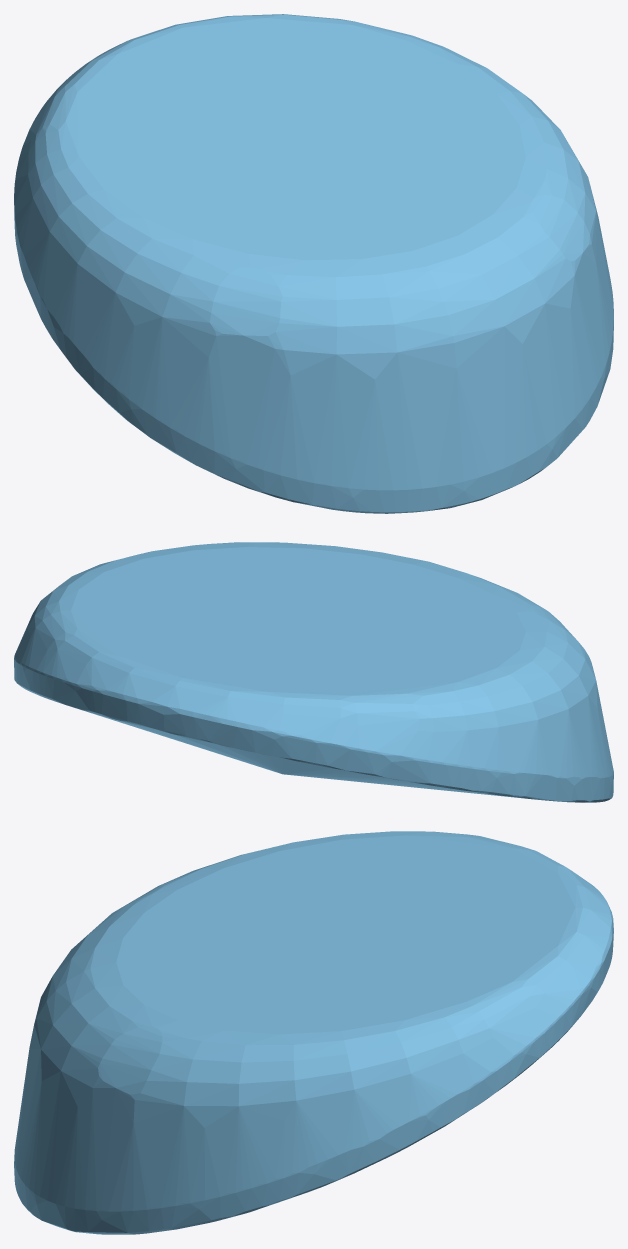
Rendered from ur10_e_link3_visible_vis_5.dae.
The picture shows the model from 3 angles, top to bottom: view 1: azimuth 30°, elevation 25°; view 2: azimuth 150°, elevation 25°; view 3: azimuth 270°, elevation 25°; orthographic projection.
Visible parts, largest first — view 1: node; view 2: node; view 3: node.
Part boxes in pixels (x1,y1,x2,y2): node: [14, 14, 613, 513]; node: [14, 542, 613, 802]; node: [14, 831, 613, 1234].
Size of the model in its own units: 0.12 by 0.0602 by 0.12.
